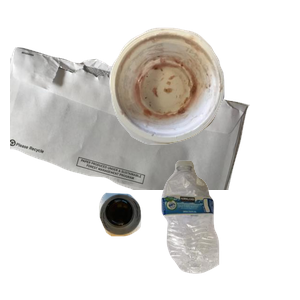glass: (96, 190, 230, 300)
paper: (10, 45, 250, 225)
plastic: (159, 158, 300, 300)
trash: (107, 25, 300, 162)
